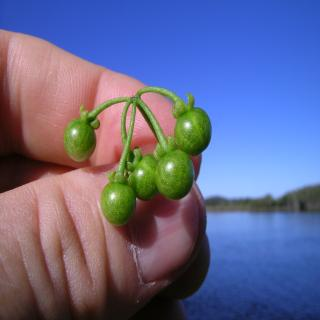tomato: (154, 151, 194, 201), (175, 109, 211, 159), (102, 177, 136, 226), (64, 117, 98, 162), (129, 154, 158, 201)
